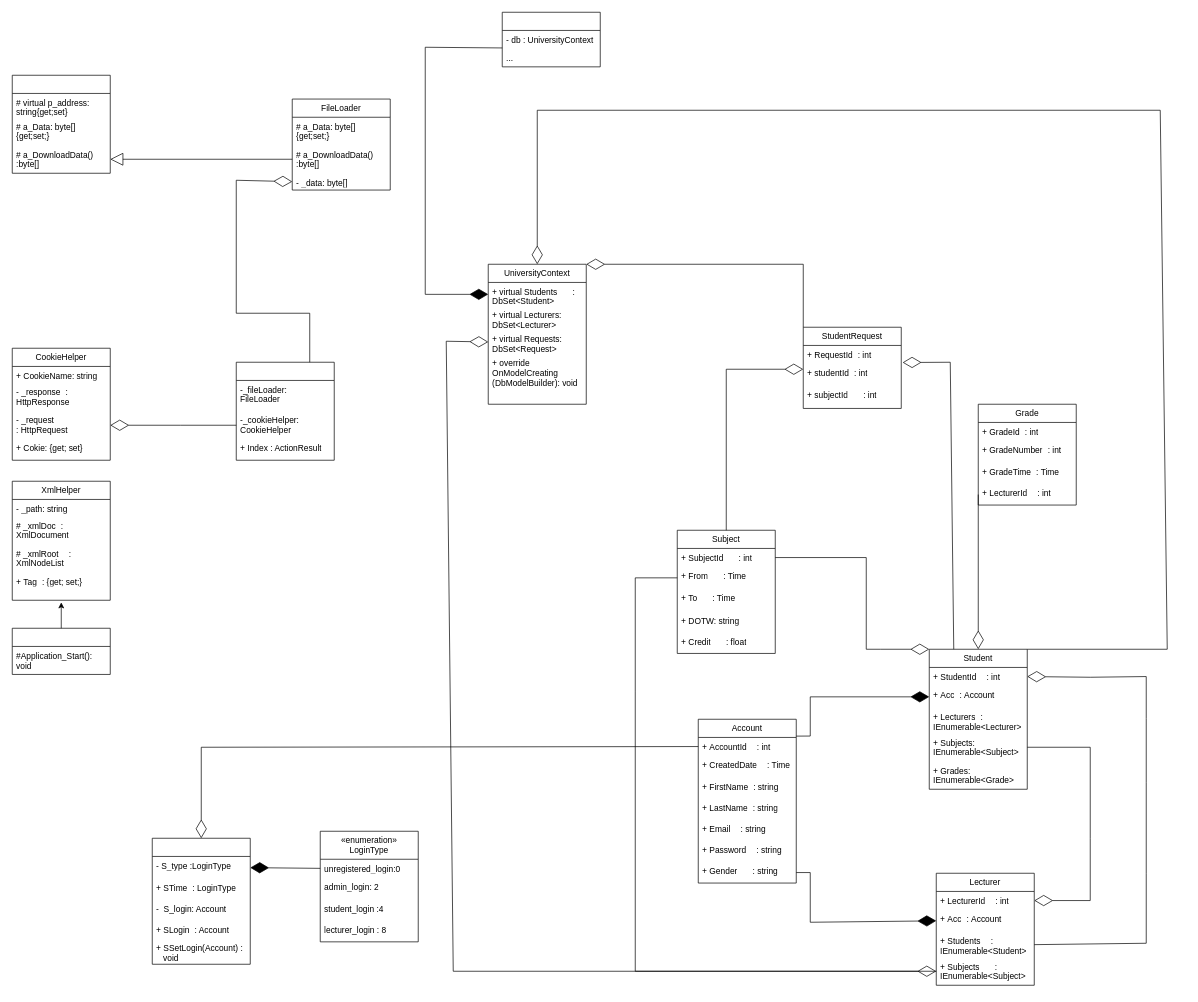
Some shapes in this 1198 by 1002 pixel diagram are drawn without their labels. Here are the shapes that lost their labels. From the top down, the box of each, then its label:
(502, 12, 600, 67): Controllers
(12, 75, 110, 173): A_FileLoader
(236, 362, 334, 460): HomeController
(12, 628, 110, 674): MvcApplication
(152, 838, 250, 964): SLoginSingelton
